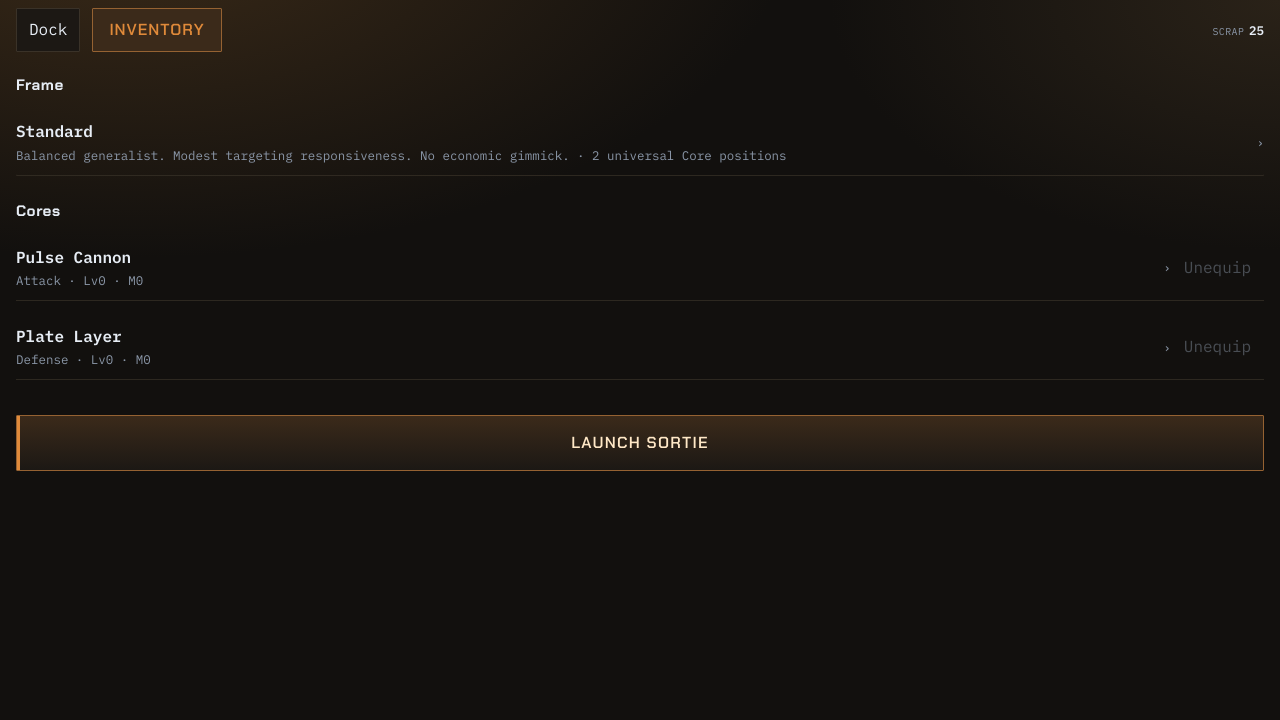
it: UI architecture reset › keeps Dock Loadout as rows and opens Core detail in a sheet
Expected: the text "Pulse Cannon" is shown, [16,247,131,267]
Step 1. Click the button with class "ui-item-row" that starts with "Pulse Cannon" → (74, 257), box [16,234,1171,301]
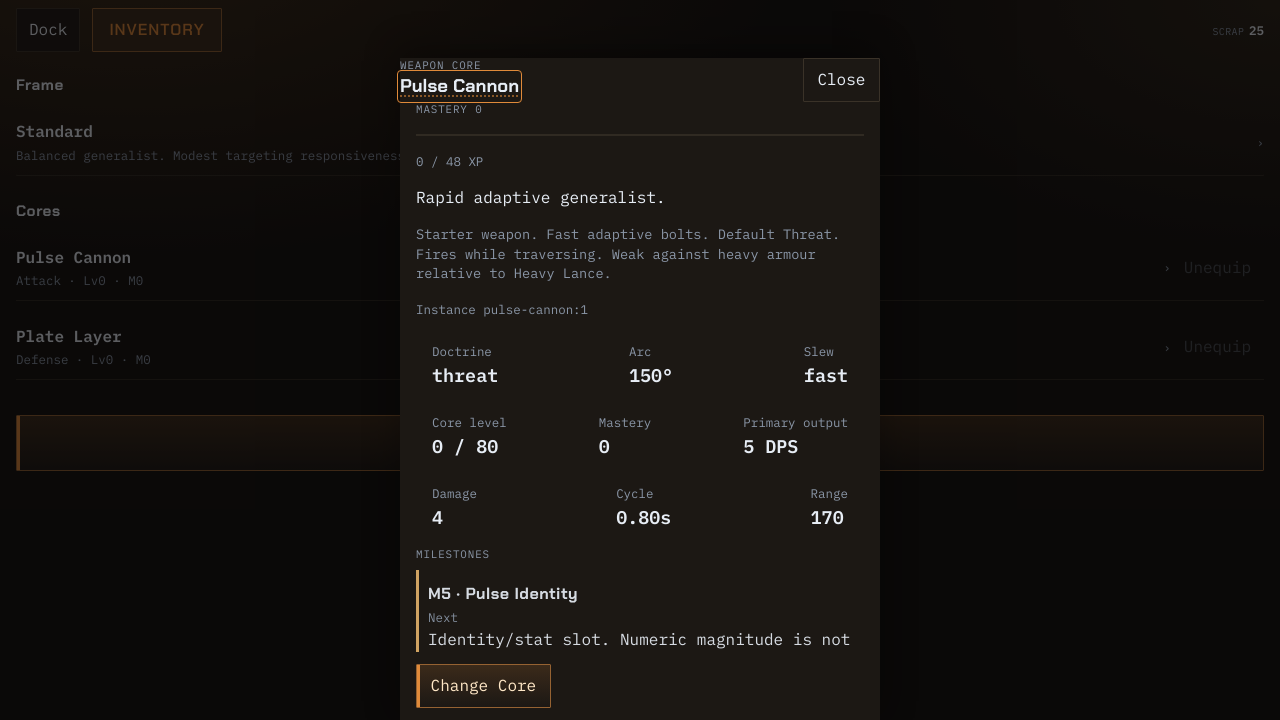
Expected: the dialog "Pulse Cannon" is shown, [400,58,880,719]
Expected: the button "Change Core" is shown, [416,664,551,708]
